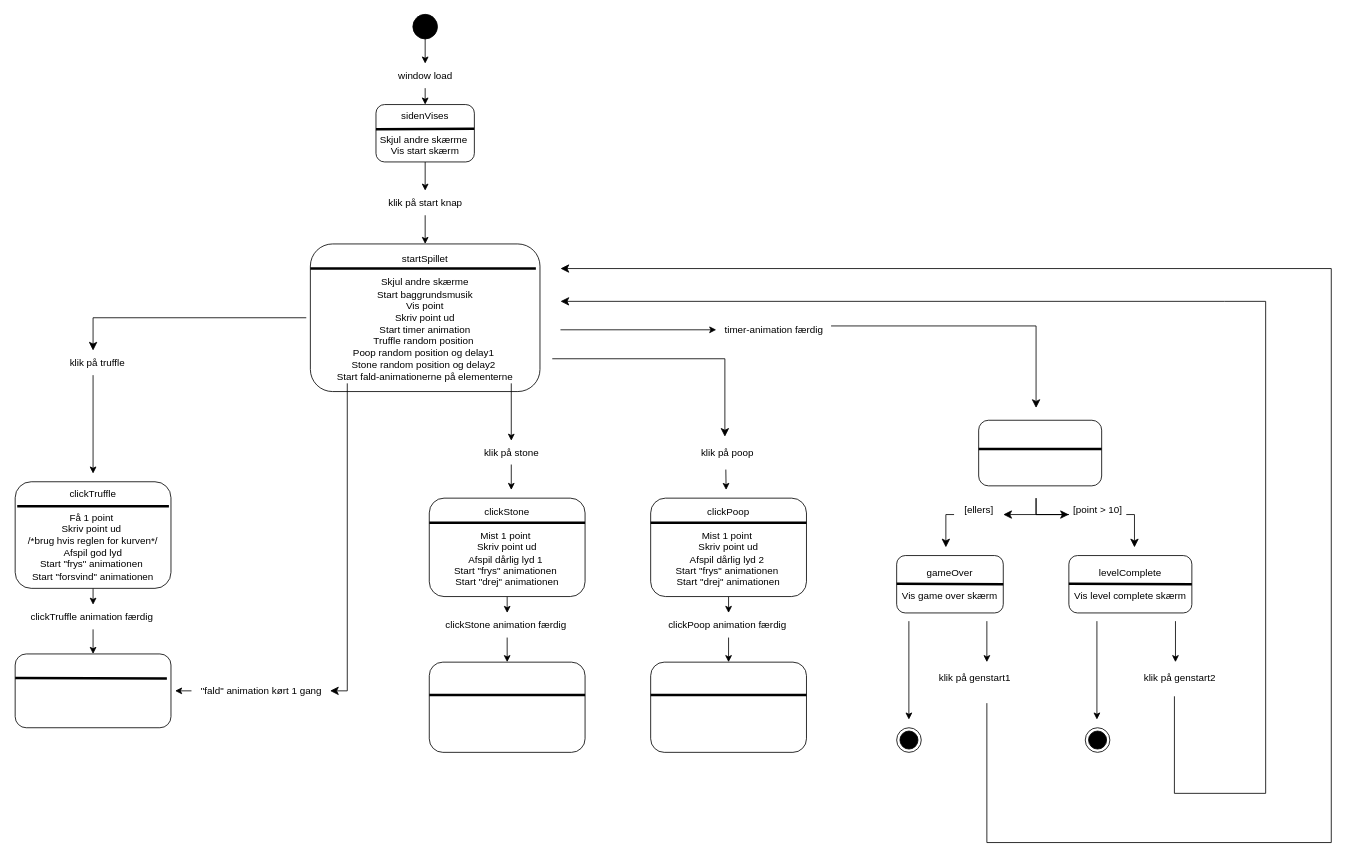
This 1354x865 diagram has some shape labels left out. The shapes that lost their labels are listed below. From the top down, each one's centre as x and y in pixels, then its label:
point (1040, 452): stopSpillet Fjern alle animationer Fjern alle eventListener
point (92, 690): restartTruffle Vis element igen Ny random position Genstart "fald" animation
point (506, 706): restartStone Vis element igen Ny random position Genstart "fald" animation
point (728, 706): restartPoop Vis element igen Ny random position Genstart "fald" animation
